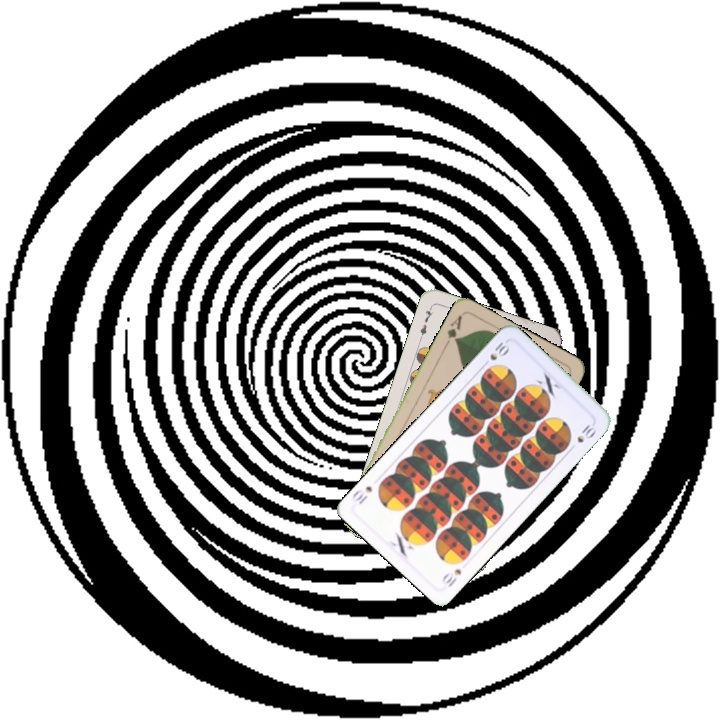E7: (415, 303, 435, 342)
GA: (441, 311, 465, 349)
S10: (478, 337, 512, 370), (438, 565, 464, 590)
